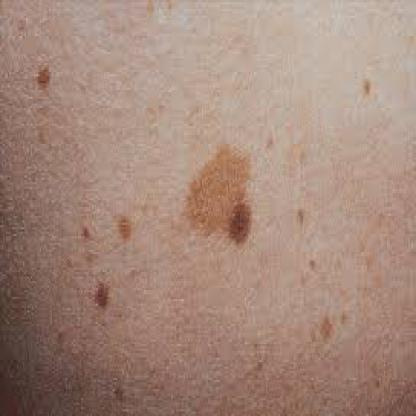darkspot: (180, 138, 260, 266), (80, 207, 136, 312), (30, 61, 57, 153), (295, 198, 315, 267), (128, 0, 180, 25), (310, 313, 338, 344), (348, 72, 374, 101), (107, 376, 132, 398)
